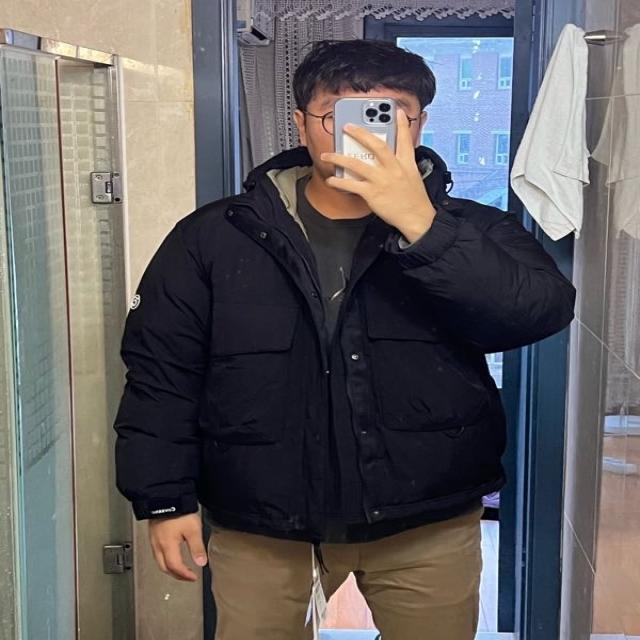cottonpants: (210, 515, 482, 640)
padding: (116, 138, 572, 542)
